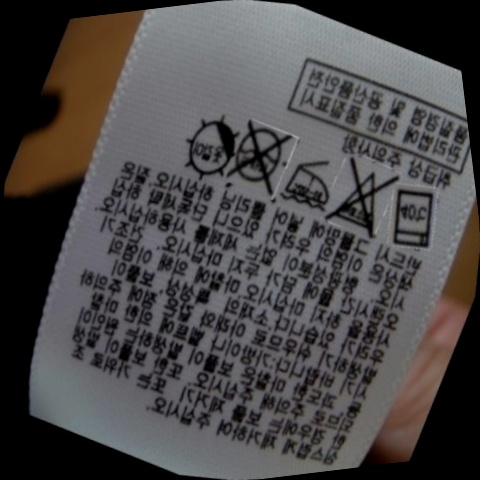40C: (380, 178, 450, 259)
DN_dry_clean: (226, 109, 296, 199)
iron_low: (277, 149, 341, 218)
line_dry_in_shade: (172, 103, 245, 187)
non_chlorine_bleach: (321, 146, 404, 244)
